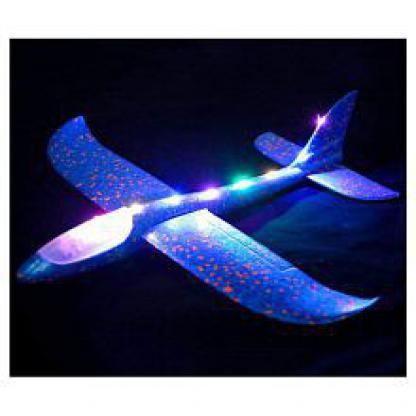CIV_Plane: (11, 88, 393, 330)
